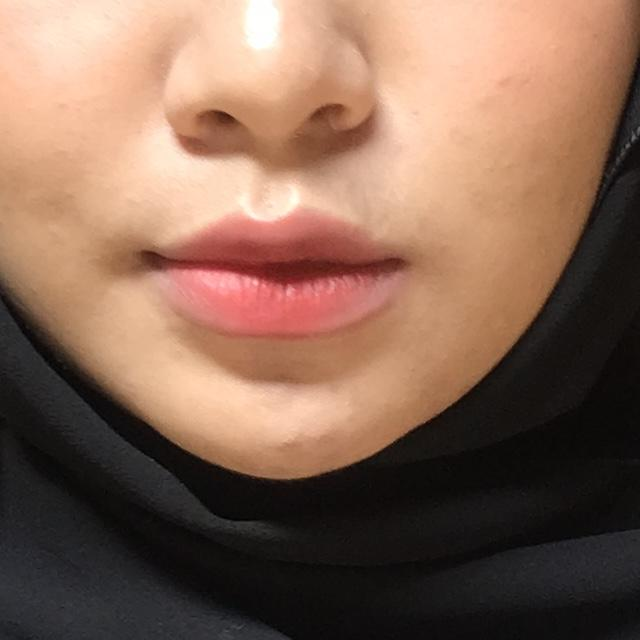ibu: (0, 0, 330, 616)
